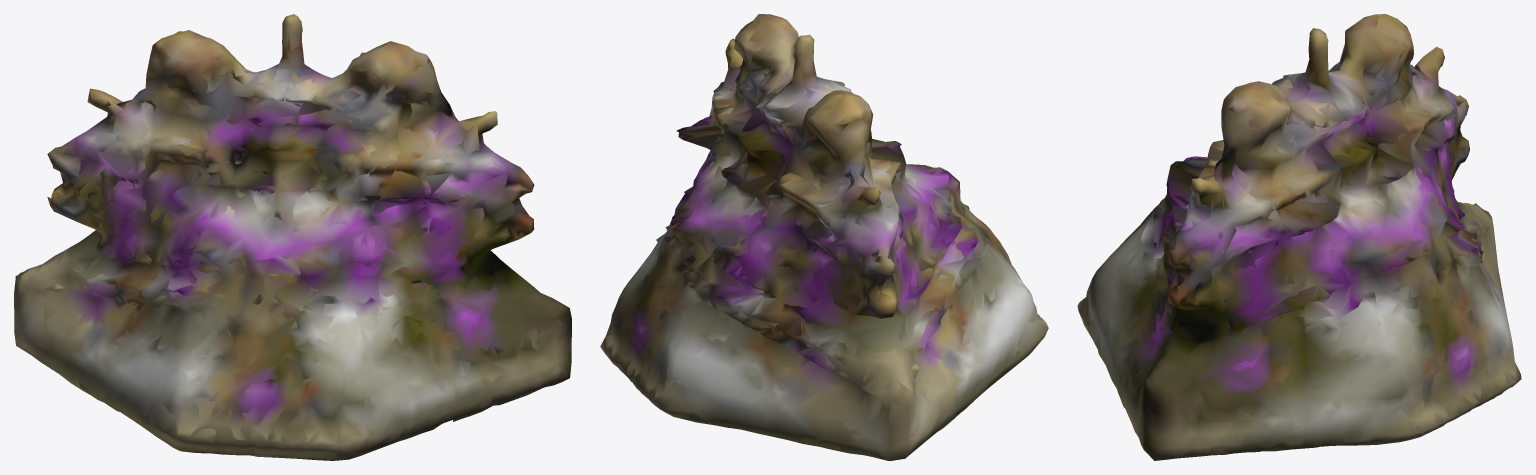
File: yuri_grinder.glb
The picture shows the model from 3 angles, left to right: view 1: azimuth 30°, elevation 25°; view 2: azimuth 150°, elevation 25°; view 3: azimuth 270°, elevation 25°; orthographic projection. The views are drawn at different scales.
Parts seen in each view (by area): view 1: yuri_grinder; view 2: yuri_grinder; view 3: yuri_grinder.
Boxes of the visible parts, <box> form: yuri_grinder: <box>14,14,571,460</box>; yuri_grinder: <box>600,14,1048,460</box>; yuri_grinder: <box>1077,14,1521,460</box>.
Size of the model in its own units: 1.79 by 1.51 by 1.79.
